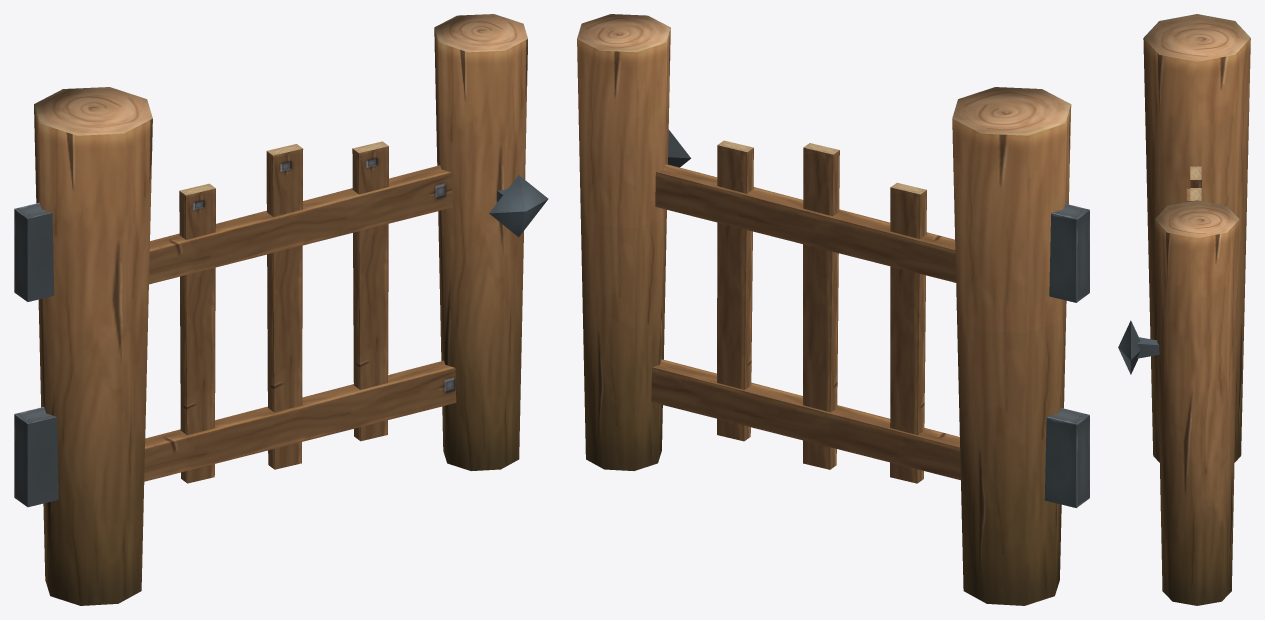
Rendered from gates_04_left.fbx.
3 renders of one model, left to right at view 1: azimuth 30°, elevation 25°; view 2: azimuth 150°, elevation 25°; view 3: azimuth 270°, elevation 25°, orthographic. The views are drawn at different scales.
Parts seen in each view (by area): view 1: gates_04_left:Mesh; view 2: gates_04_left:Mesh; view 3: gates_04_left:Mesh.
Part boxes in pixels (<box>): gates_04_left:Mesh: <box>14,14,548,605</box>; gates_04_left:Mesh: <box>577,14,1089,605</box>; gates_04_left:Mesh: <box>1118,14,1250,605</box>.
Bounding box in the file's own units: 3.71 × 3.35 × 0.9627.
